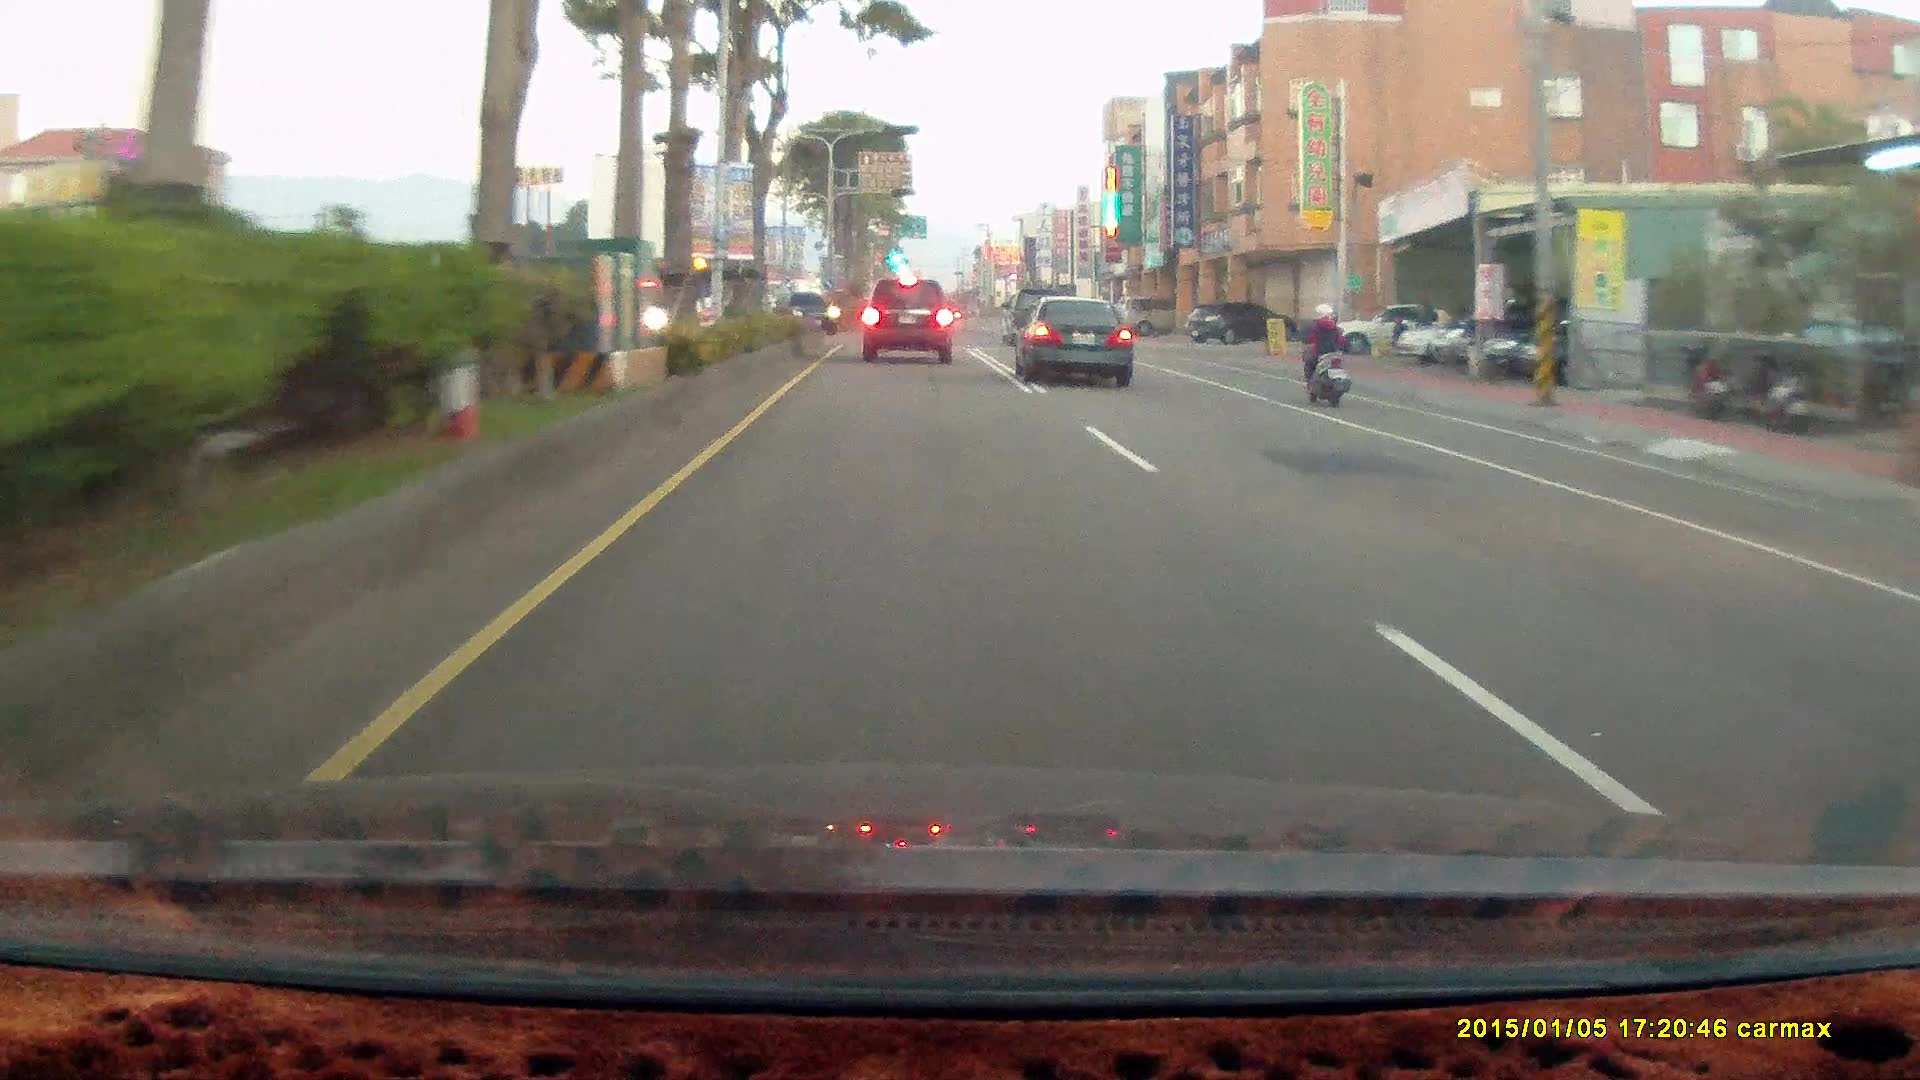pedestrian: (1416, 291, 1437, 348)
rider: (1287, 292, 1363, 416), (1293, 295, 1351, 402)
vehicle: (1513, 307, 1677, 383), (1479, 300, 1642, 376), (1021, 289, 1138, 385), (1009, 293, 1131, 384), (1435, 294, 1579, 367), (1308, 297, 1470, 357), (1308, 298, 1463, 356), (864, 269, 959, 358), (859, 277, 951, 363), (1396, 309, 1519, 364), (1183, 299, 1290, 344), (1188, 299, 1284, 345), (998, 285, 1063, 339), (1118, 292, 1200, 334), (776, 287, 838, 328)
